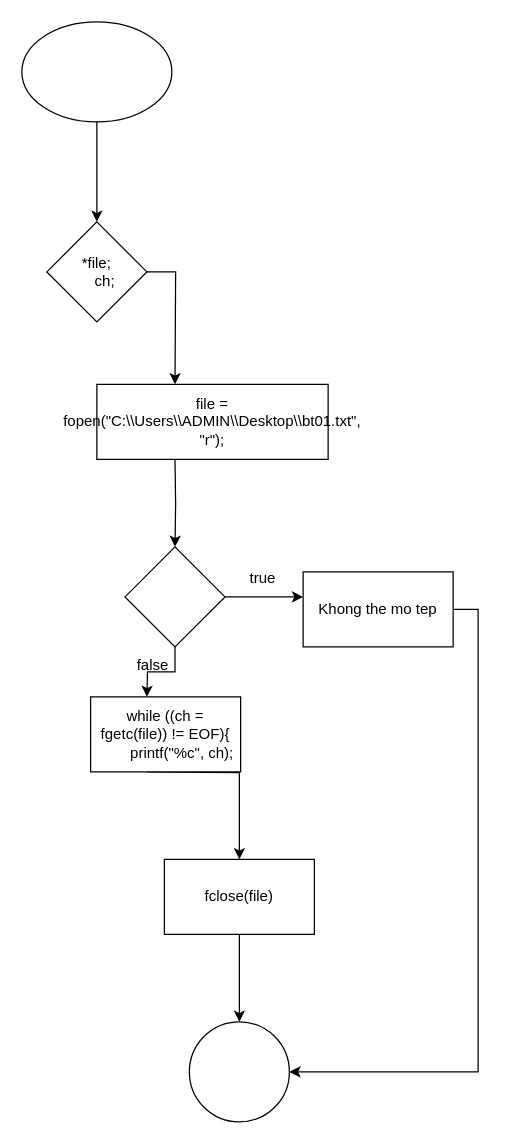
This 510x1144 diagram has some shape labels left out. Here are the shapes that lost their labels. From the top down, the centre of each, then its label:
At point 96,71: "start".
At point 174,596: "f == null".
At point 238,1071: "end".
